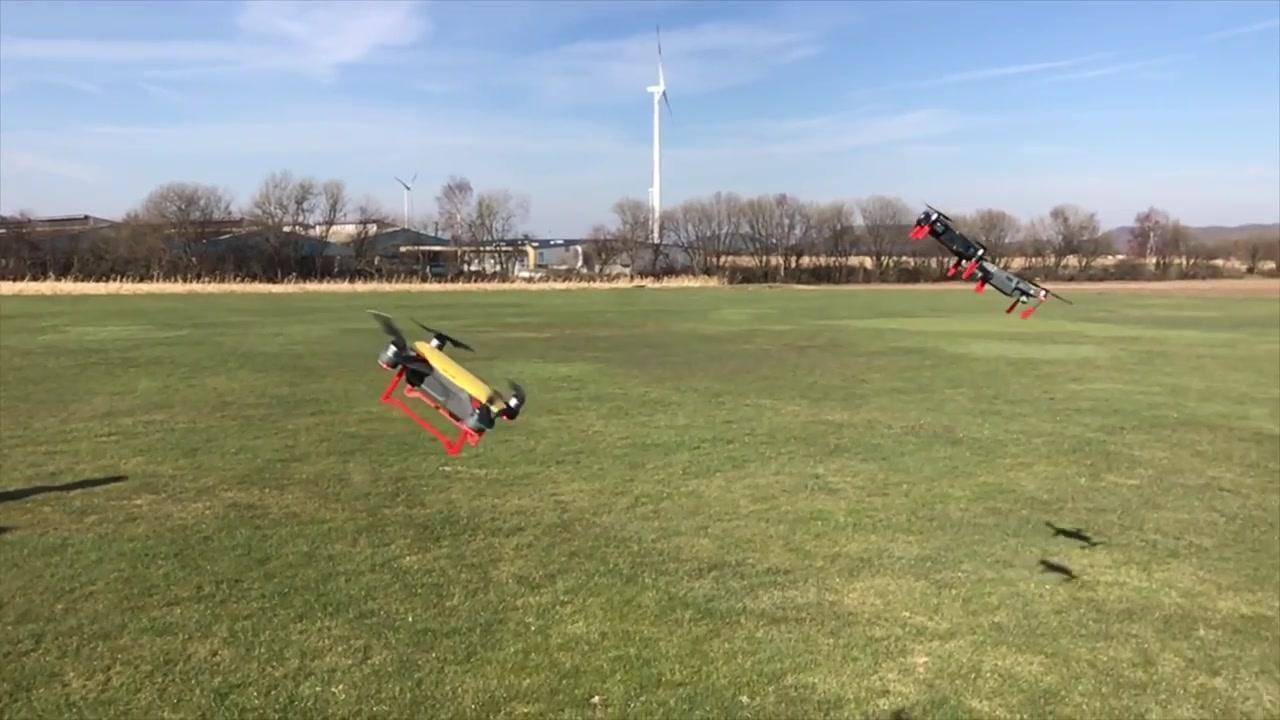UAV: (367, 310, 527, 457), (961, 258, 1078, 321), (908, 204, 990, 281)
